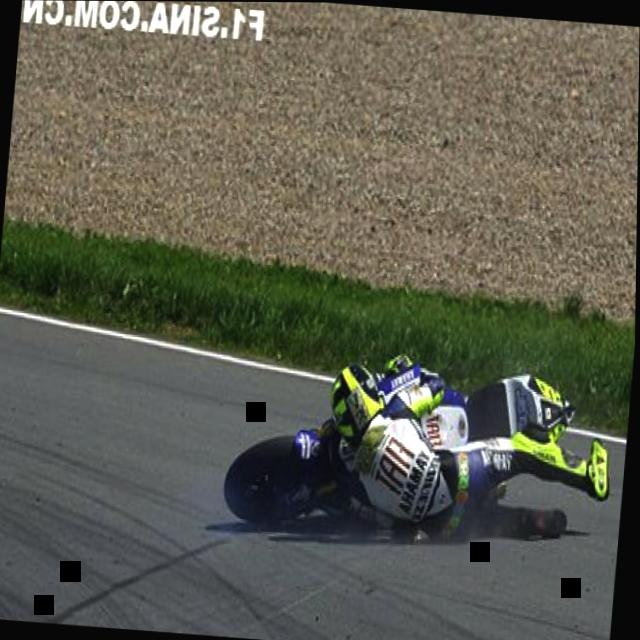Fall-Detected: (309, 308, 624, 568)
